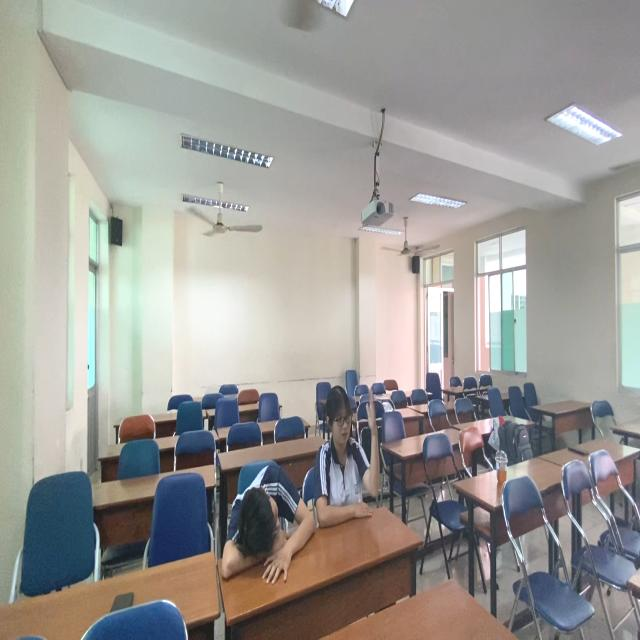raise_hand: (321, 379, 385, 525)
sleep: (213, 468, 319, 590)
